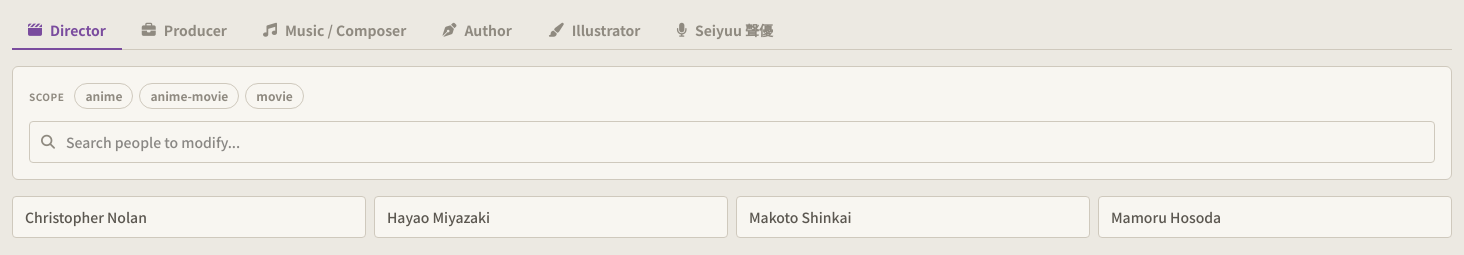
Test: filters the list by a non-displayed name field (e.g. Japanese)
expect the button "Hayao Miyazaki" is shown: met, box [374, 196, 728, 238]
Type "宮崎" into the field with placeholder "Search people to modify...". click: point(732, 142)
box: [29, 121, 1435, 163]
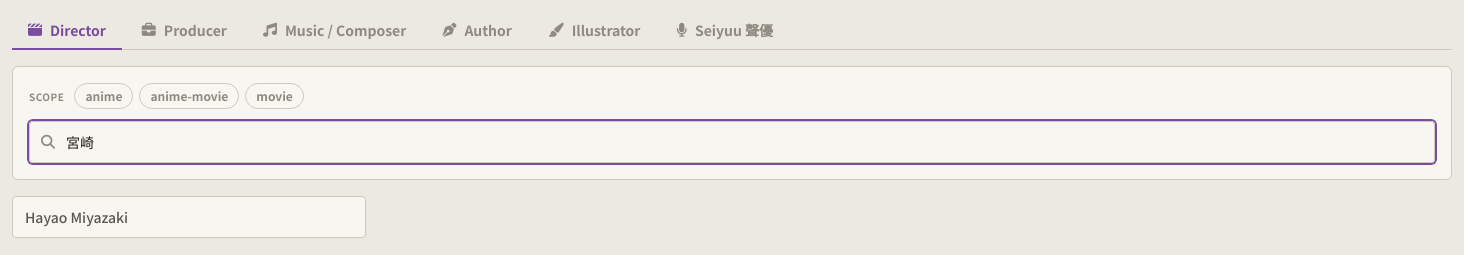
expect the button "Hayao Miyazaki" is shown: met, box [12, 196, 366, 238]
expect the button "Mamoru Hosoda" is gone: met
